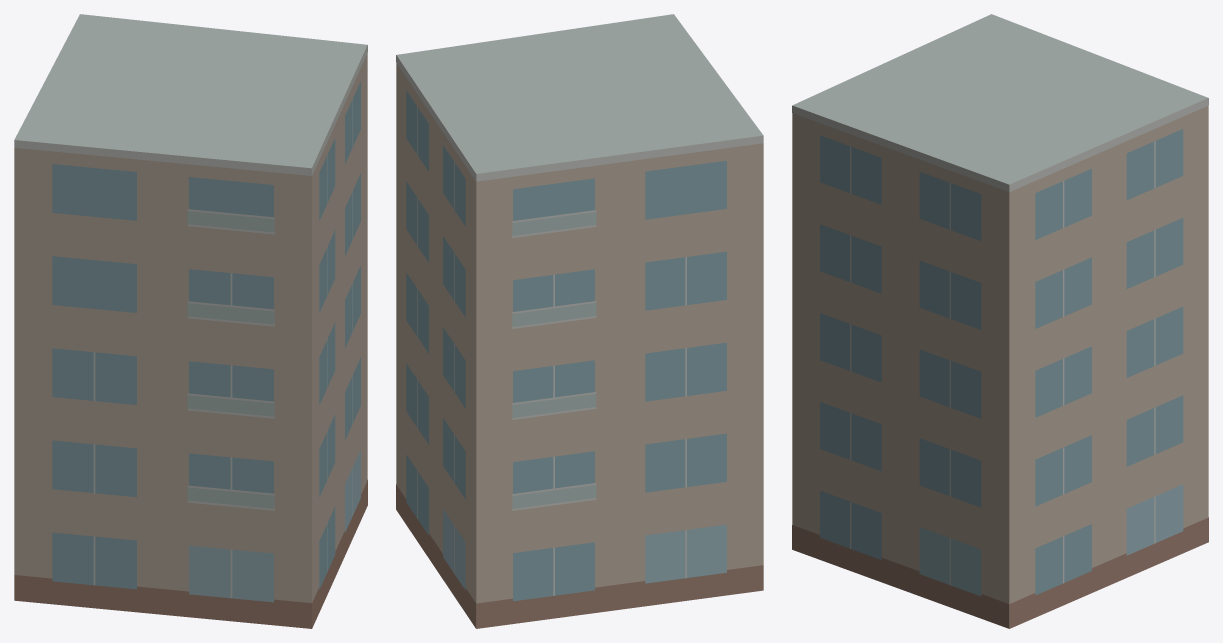
The model's file is survey-upis-32891918.glb.
3 renders of one model, left to right at view 1: azimuth 30°, elevation 25°; view 2: azimuth 150°, elevation 25°; view 3: azimuth 270°, elevation 25°, orthographic. The views are drawn at different scales.
Parts seen in each view (by area): view 1: survey-upis-32891918.tmp; view 2: survey-upis-32891918.tmp; view 3: survey-upis-32891918.tmp.
Boxes of the visible parts, box(x1,y1,x2,y2) form: survey-upis-32891918.tmp: box(14, 14, 367, 628); survey-upis-32891918.tmp: box(396, 14, 763, 628); survey-upis-32891918.tmp: box(792, 14, 1208, 628).
Bounding box in the file's own units: 11.96 × 14.5 × 12.33.
